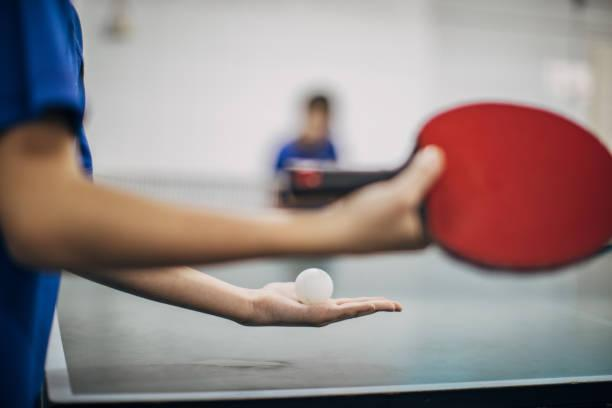ball_pingpong: (294, 267, 336, 304)
